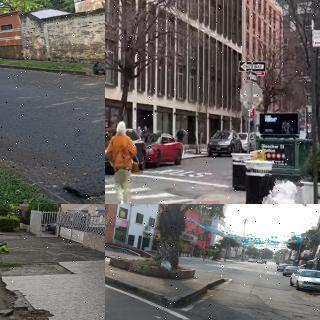Garbage: (258, 175, 302, 204), (158, 258, 178, 274), (91, 61, 105, 75), (0, 241, 9, 252), (0, 244, 8, 253)
